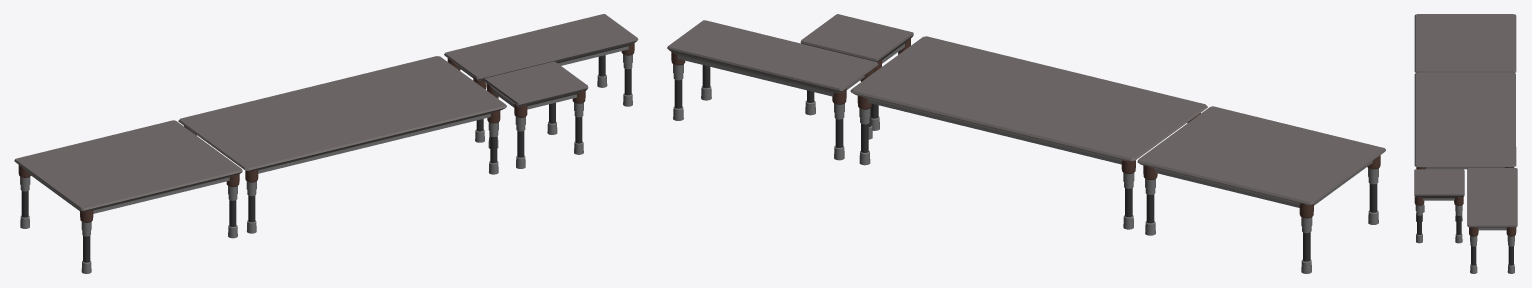
Rendered from Tables.fbx.
The picture shows the model from 3 angles, left to right: view 1: azimuth 30°, elevation 25°; view 2: azimuth 150°, elevation 25°; view 3: azimuth 270°, elevation 25°; orthographic projection. The views are drawn at different scales.
Parts seen in each view (by area): view 1: TABLE_2, TABLE_1, TABLE_3, TABLE_4; view 2: TABLE_2, TABLE_1, TABLE_3, TABLE_4; view 3: TABLE_2, TABLE_1, TABLE_3, TABLE_4.
Boxes of the visible parts, box(x1,y1,x2,y2) form: TABLE_2: box(178, 56, 506, 233); TABLE_1: box(14, 120, 242, 273); TABLE_3: box(444, 14, 638, 142); TABLE_4: box(484, 61, 588, 168); TABLE_2: box(850, 36, 1207, 229); TABLE_1: box(1137, 106, 1385, 273); TABLE_3: box(667, 20, 878, 160); TABLE_4: box(800, 14, 913, 130); TABLE_2: box(1414, 72, 1516, 212); TABLE_1: box(1414, 14, 1516, 72); TABLE_3: box(1467, 168, 1517, 273); TABLE_4: box(1414, 169, 1464, 243).
Bounding box in the file's own units: 3389 × 370 × 700.
